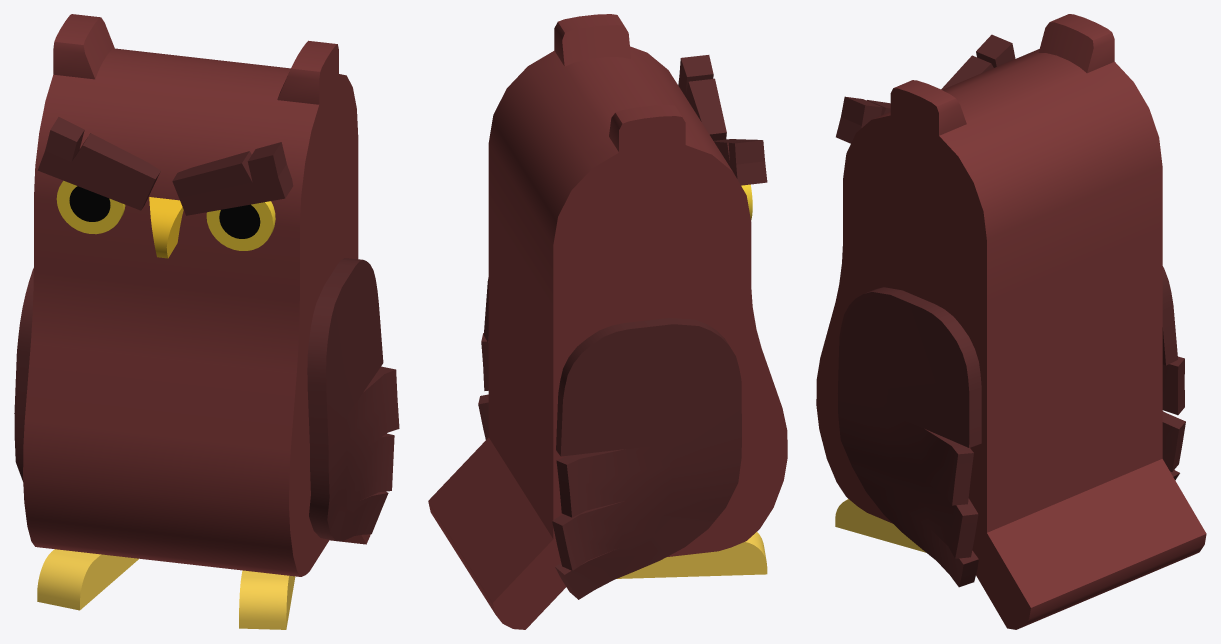
File: owl.fbx
3 views of the same model, side by side, from view 1: azimuth 30°, elevation 25°; view 2: azimuth 150°, elevation 25°; view 3: azimuth 270°, elevation 25° (orthographic). The views are drawn at different scales.
Parts seen in each view (by area): view 1: Cube.109, Cube.028, Cube.050, Cube.030, Circle.1957, Cube.029; view 2: Cube.109, Cube.028, Cube.050, Cube.030; view 3: Cube.109, Cube.028, Cube.050, Cube.030.
Part boxes in pixels (<box>): Cube.109: <box>23,14,370,576</box>; Cube.028: <box>14,258,399,541</box>; Cube.050: <box>37,117,293,215</box>; Cube.030: <box>37,549,295,629</box>; Circle.1957: <box>56,180,275,250</box>; Cube.029: <box>149,197,183,258</box>; Cube.109: <box>428,14,787,629</box>; Cube.028: <box>478,277,741,599</box>; Cube.050: <box>678,55,767,185</box>; Cube.030: <box>617,532,767,578</box>; Cube.109: <box>816,14,1206,629</box>; Cube.028: <box>837,266,1185,587</box>; Cube.050: <box>836,34,1015,143</box>; Cube.030: <box>835,499,925,552</box>.
Size of the model in its own units: 157 by 220 by 157.
Materials: 1 (1 with a texture image).
